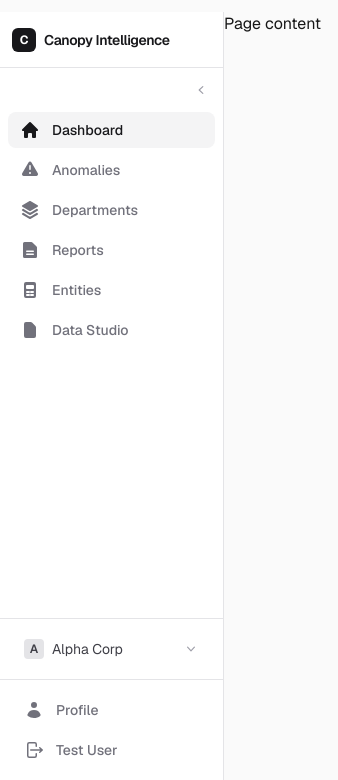
it: AnalyticsShell - sidebar collapse and expand › expands sidebar after collapsing
This screenshot has width=338, height=780.
Click the button named "Collapse sidebar".
click(201, 90)  # box [187,76,215,104]
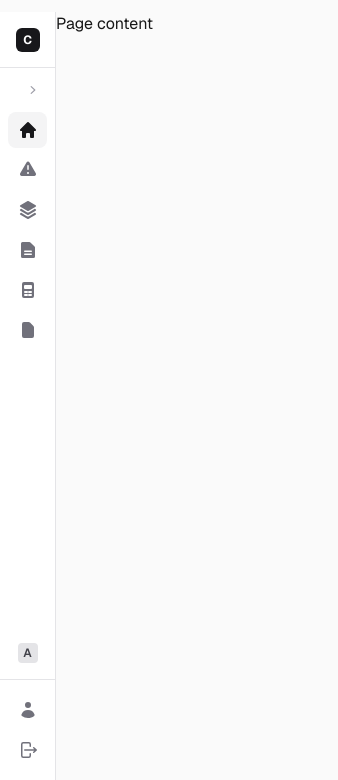
Expected: the text "Dashboard" is gone
Click the button named "Expand sidebar".
click(33, 90)  # box [19,76,47,104]
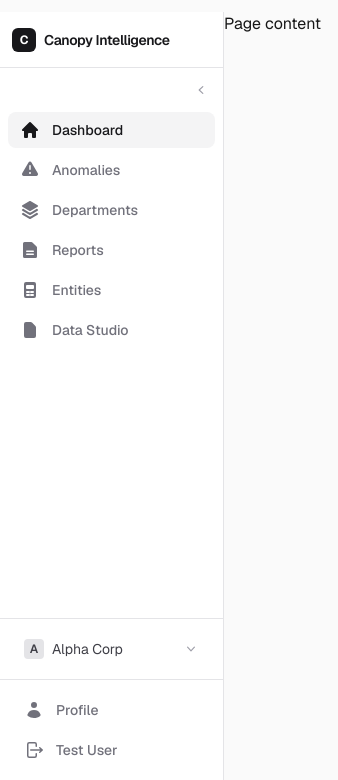
Expected: the text "Dashboard" is shown, [52,120,123,140]
